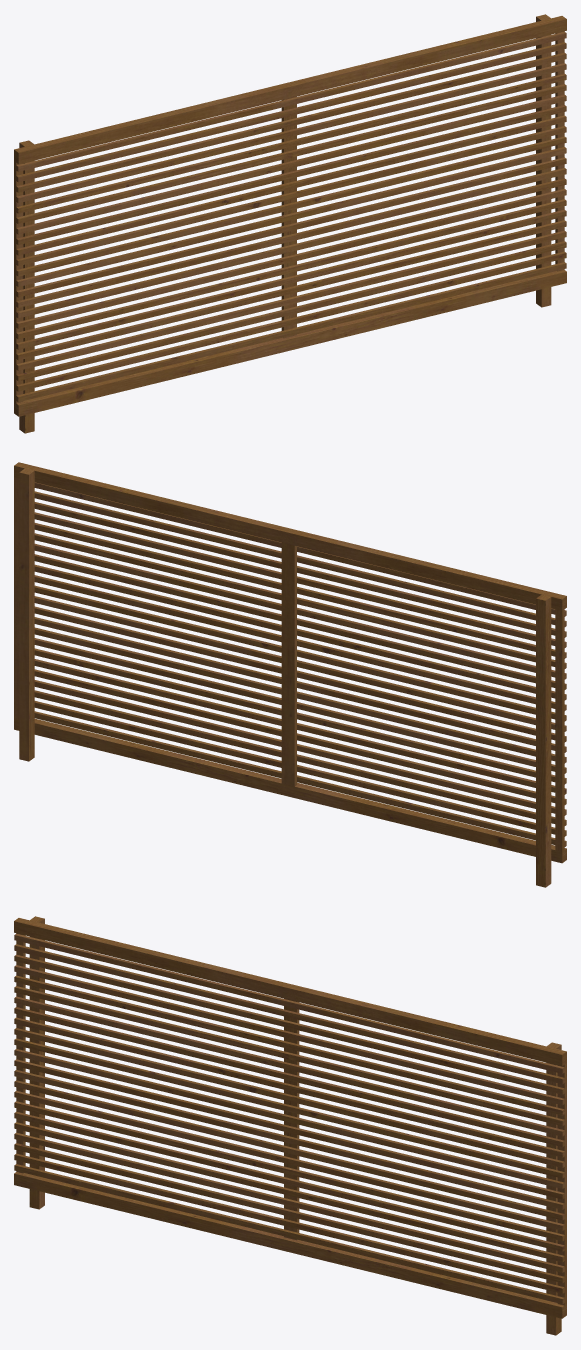
Rendered from EAFsudarehosogoushi_w1998-h920_naturalpine.fbx.
The picture shows the model from 3 angles, top to bottom: view 1: azimuth 30°, elevation 25°; view 2: azimuth 150°, elevation 25°; view 3: azimuth 330°, elevation 25°; orthographic projection.
Parts seen in each view (by area): view 1: EAFsudarehosogoushi_w1998-h920_naturalpine; view 2: EAFsudarehosogoushi_w1998-h920_naturalpine; view 3: EAFsudarehosogoushi_w1998-h920_naturalpine.
Part boxes in pixels (box(x1,y1,x2,y2)): EAFsudarehosogoushi_w1998-h920_naturalpine: box(14, 14, 566, 433); EAFsudarehosogoushi_w1998-h920_naturalpine: box(14, 462, 566, 887); EAFsudarehosogoushi_w1998-h920_naturalpine: box(14, 916, 566, 1335).
Size of the model in its own units: 200 by 100 by 6.5.
Materials: 1 (1 with a texture image).
